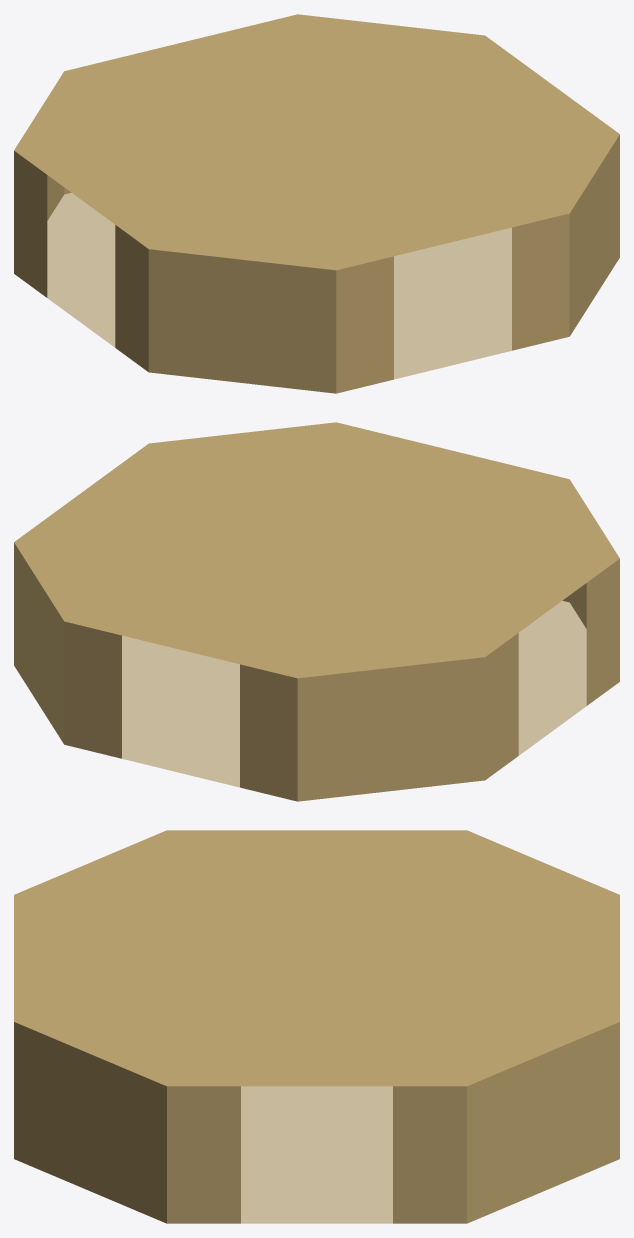
File: Room002.fbx
3 views of the same model, one above another, from view 1: azimuth 30°, elevation 25°; view 2: azimuth 150°, elevation 25°; view 3: azimuth 270°, elevation 25° (orthographic). The views are drawn at different scales.
Visible parts, largest first — view 1: Cube; view 2: Cube; view 3: Cube.
Part boxes in pixels (x1,y1,x2,y2): Cube: (14,14,619,393); Cube: (14,422,619,801); Cube: (14,830,619,1223).
Bounding box in the file's own units: 1600 × 400 × 1600.
